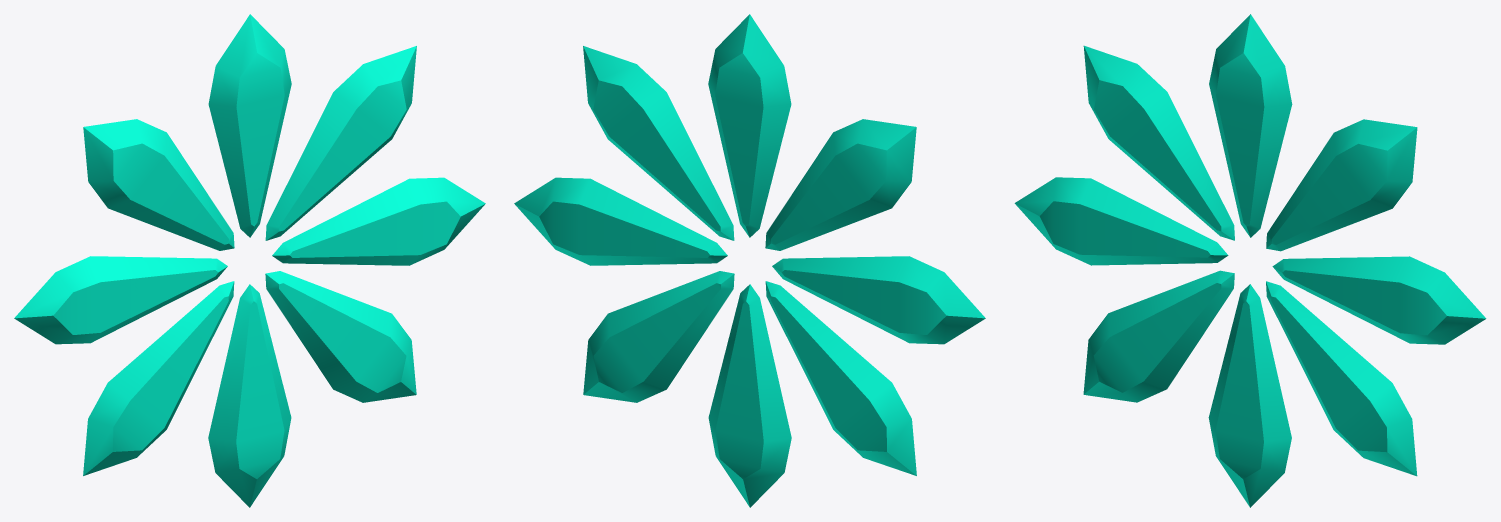
File: SnowCrystal_TypeC.FBX
3 renders of one model, left to right at view 1: azimuth 30°, elevation 25°; view 2: azimuth 150°, elevation 25°; view 3: azimuth 330°, elevation 25°, orthographic.
Parts seen in each view (by area): view 1: SnowCrystal_TypeC; view 2: SnowCrystal_TypeC; view 3: SnowCrystal_TypeC.
Part boxes in pixels (x1=…): SnowCrystal_TypeC: x1=14, y1=14, x2=485, y2=507; SnowCrystal_TypeC: x1=514, y1=14, x2=985, y2=507; SnowCrystal_TypeC: x1=1014, y1=14, x2=1486, y2=507.
Size of the model in its own units: 25.2 by 25.2 by 1.94.
